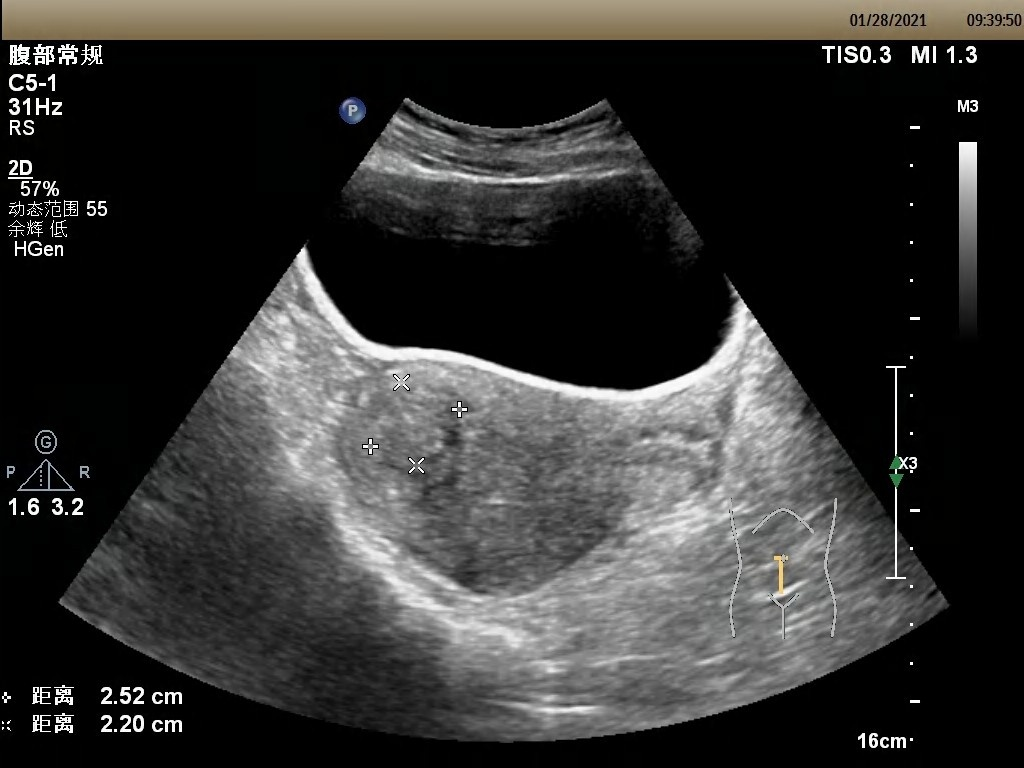肌瘤: (381, 390, 447, 461)
